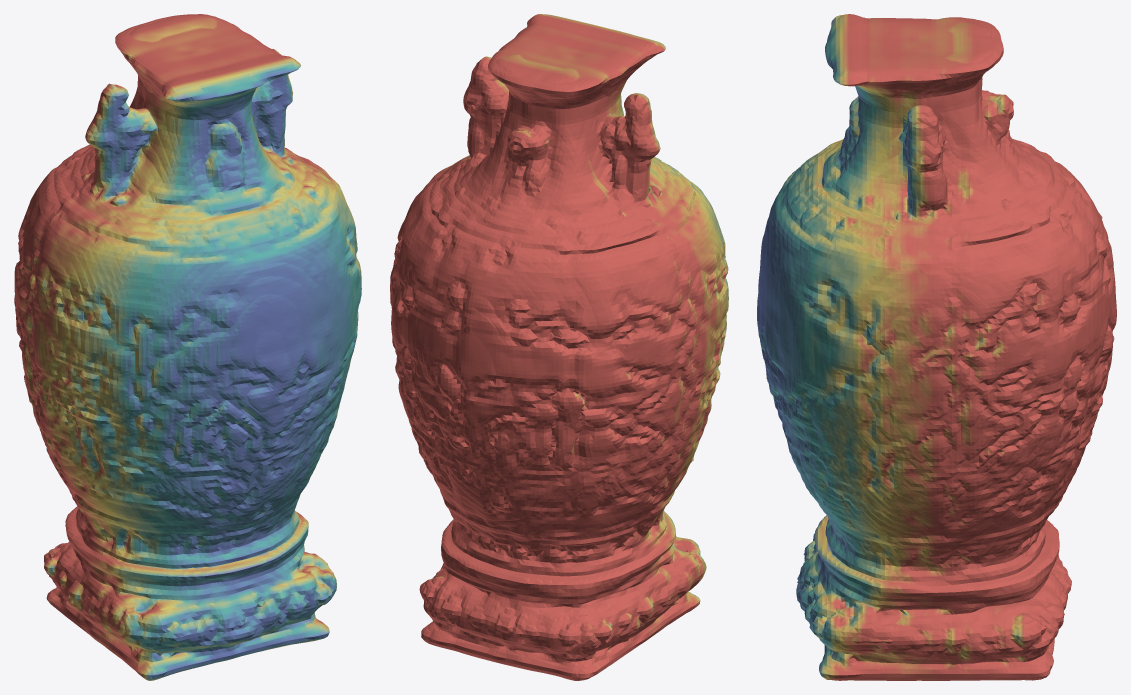
Rendered from eaf4fbde-604a-4d73-9ab4-315a9881c88b.heatmap.glb.
3 views of the same model, side by side, from view 1: azimuth 30°, elevation 25°; view 2: azimuth 150°, elevation 25°; view 3: azimuth 270°, elevation 25° (orthographic). The views are drawn at different scales.
Visible parts, largest first — view 1: world; view 2: world; view 3: world.
Boxes of the visible parts, x1,y1,x2,y2 form: world: [14, 14, 361, 680]; world: [390, 14, 728, 680]; world: [757, 14, 1116, 680].
Size of the model in its own units: 16.02 by 30 by 16.22.
